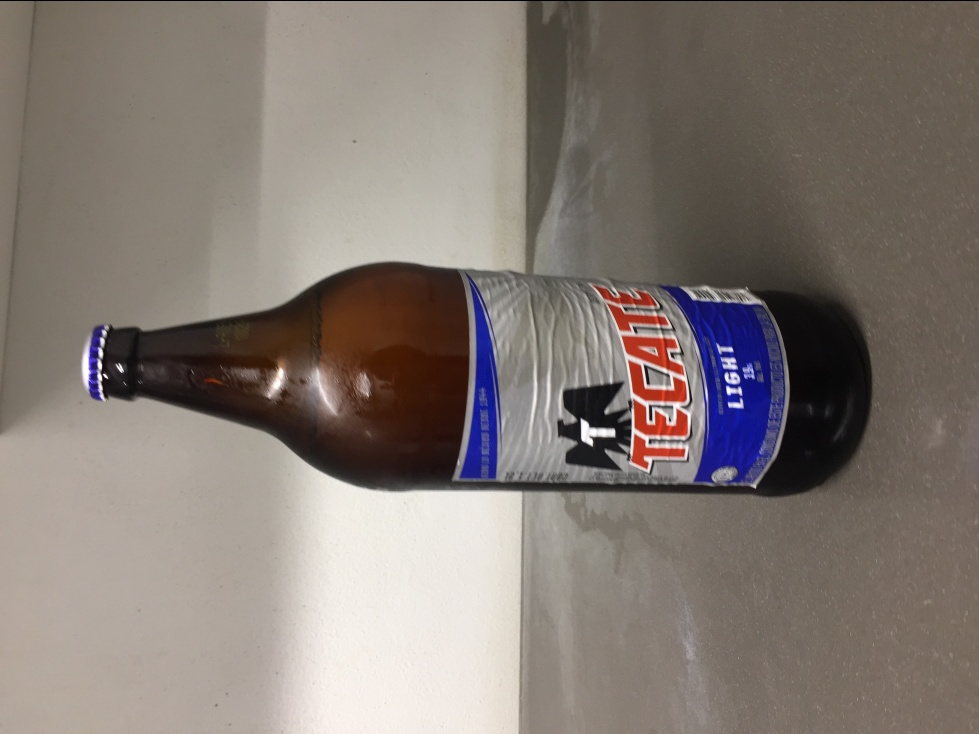tecateC: (79, 261, 872, 500)
